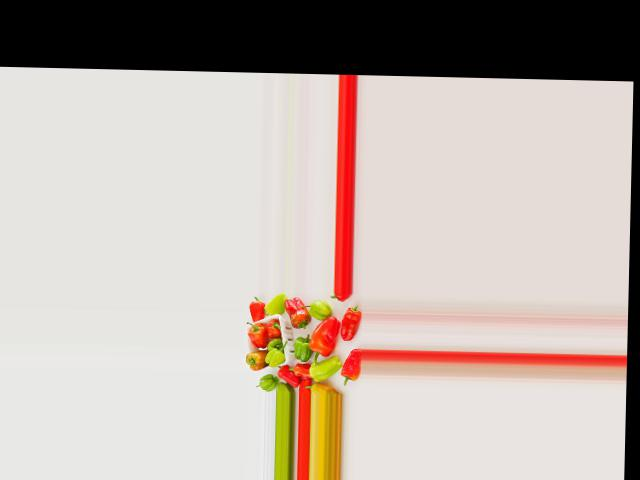bell_pepper: (337, 353, 361, 387)
